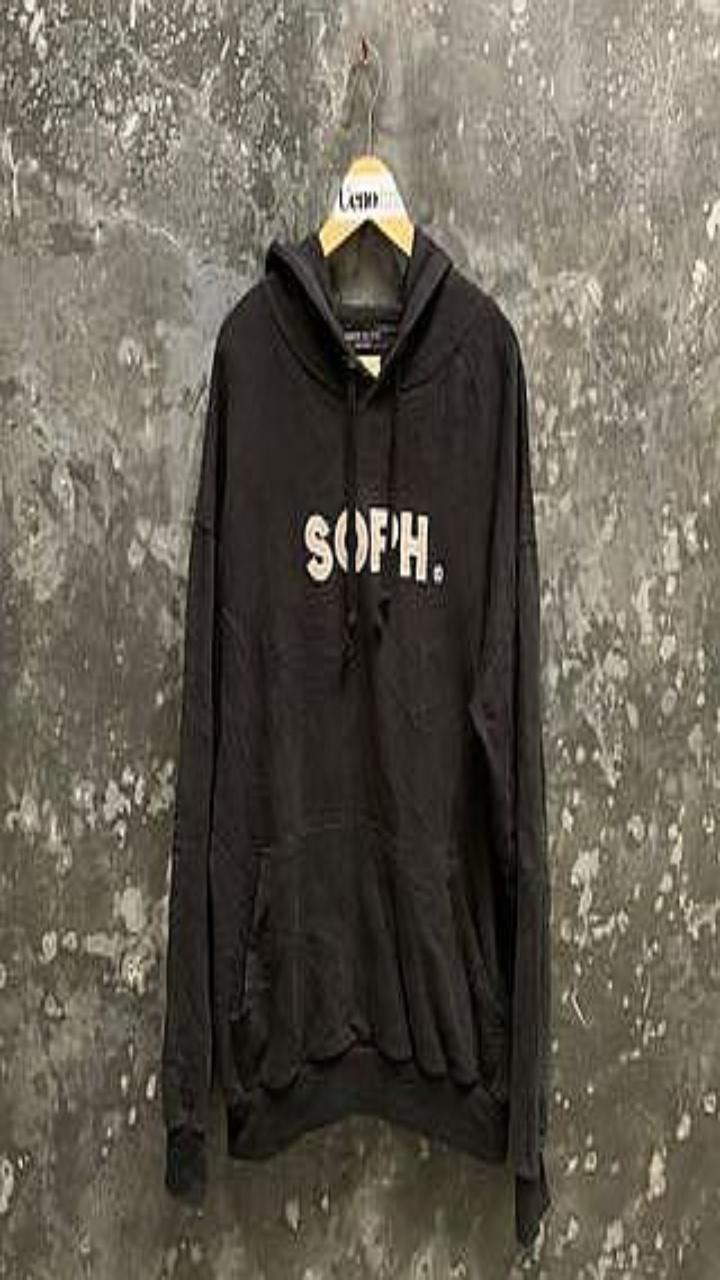Hoodie: (161, 225, 549, 1243)
